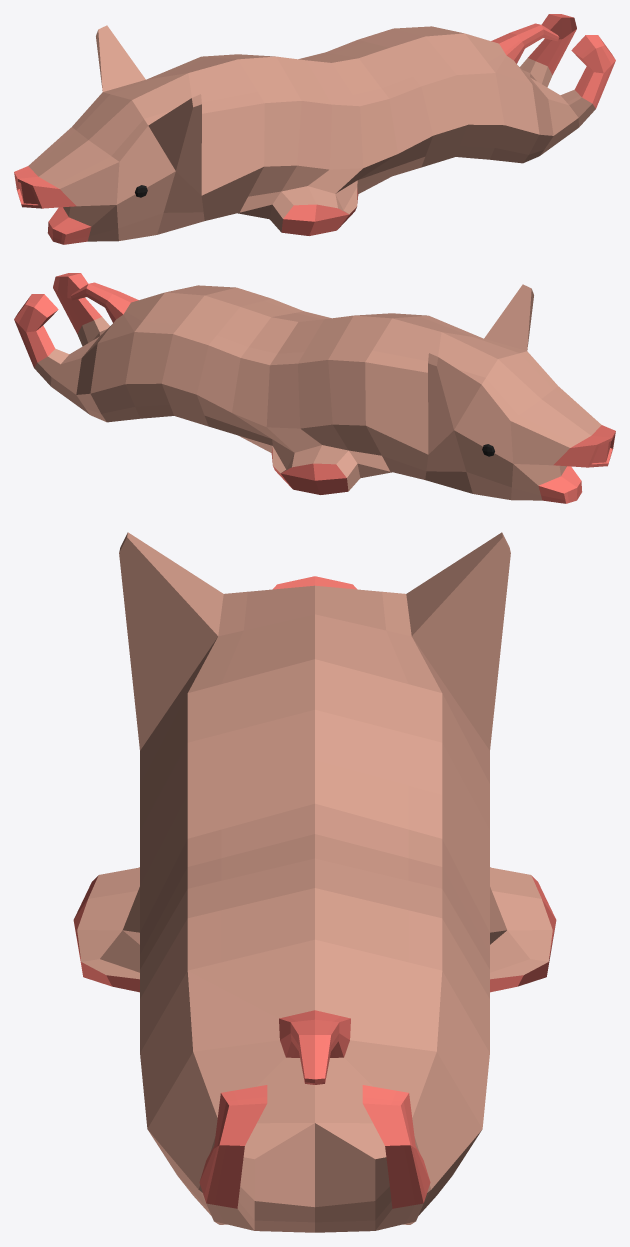
Rendered from Pig Raw.fbx.
3 renders of one model, top to bottom at view 1: azimuth 30°, elevation 25°; view 2: azimuth 150°, elevation 25°; view 3: azimuth 270°, elevation 25°, orthographic. The views are drawn at different scales.
Parts seen in each view (by area): view 1: Pig Raw; view 2: Pig Raw; view 3: Pig Raw.
Boxes of the visible parts, bbox=[...] form: Pig Raw: bbox=[14, 14, 615, 244]; Pig Raw: bbox=[14, 273, 615, 503]; Pig Raw: bbox=[73, 532, 556, 1232].
Bounding box in the file's own units: 282 × 79.35 × 102.
